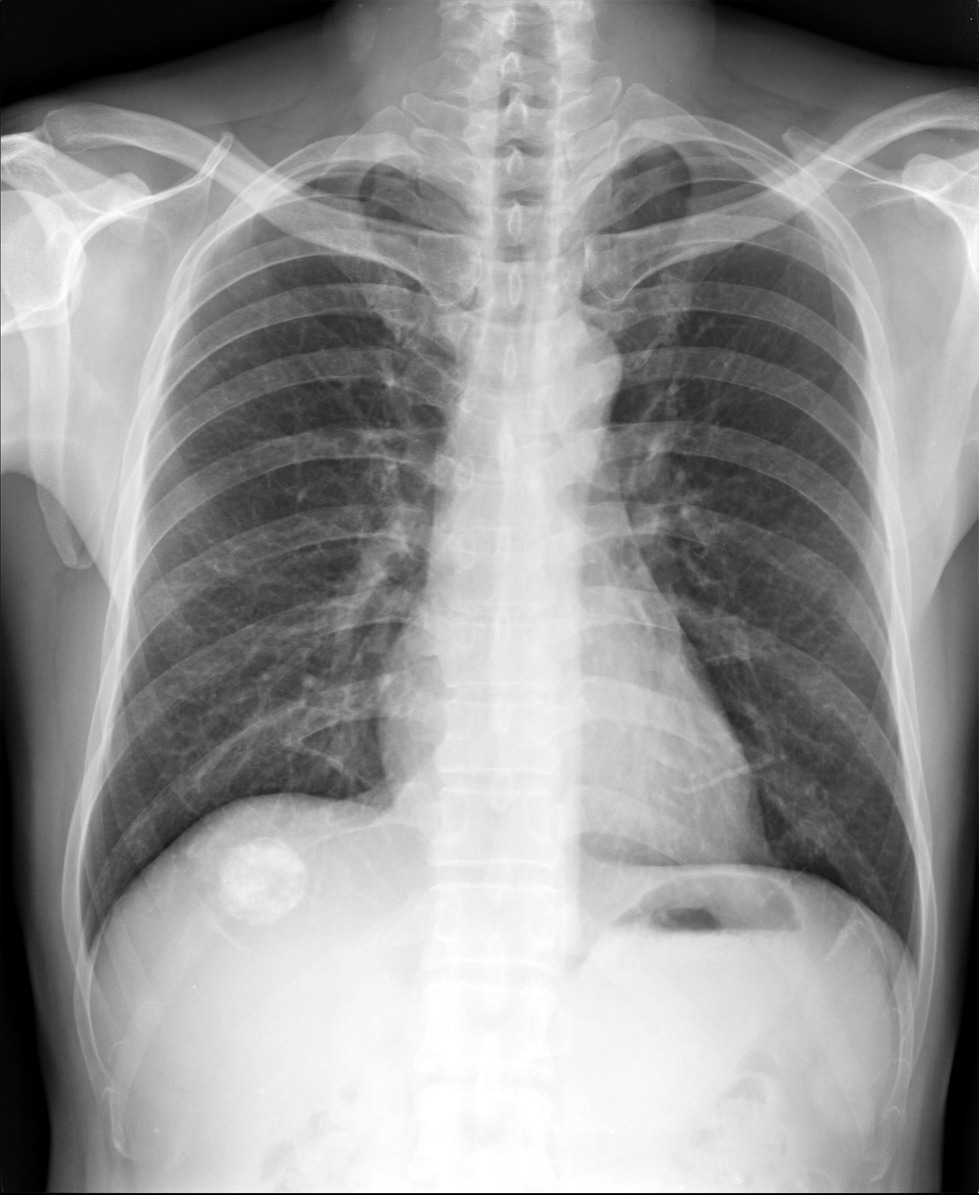Pleural thickening: (700, 133, 823, 213), (227, 157, 346, 220)
